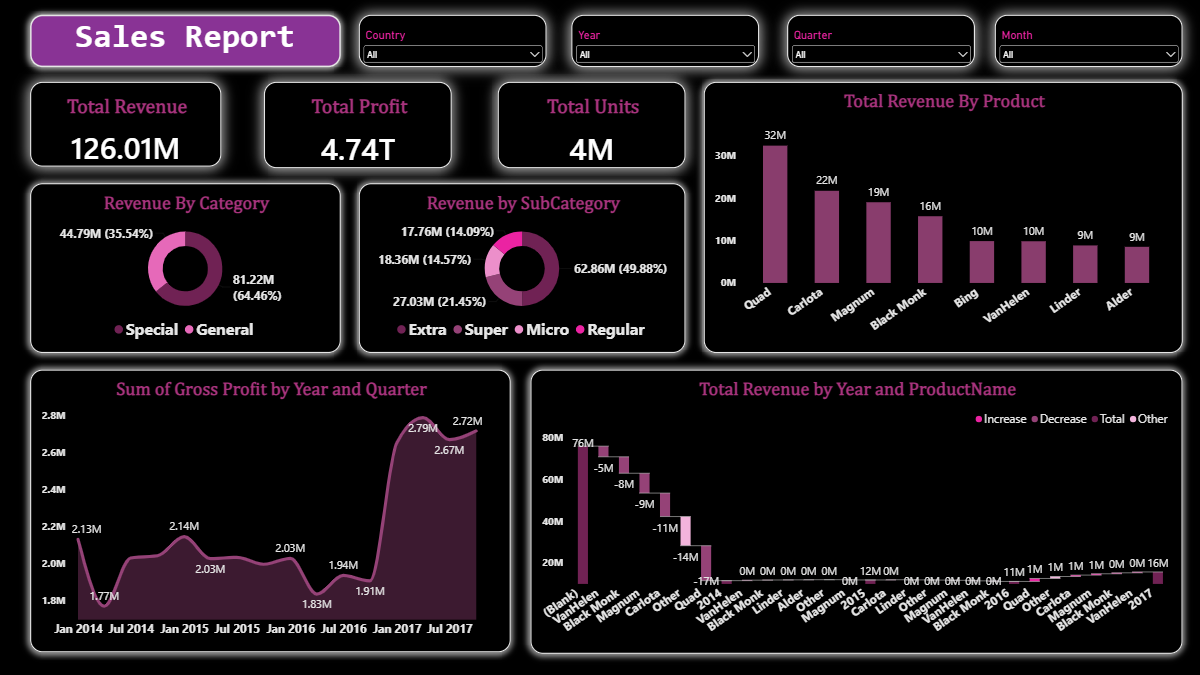

The dashboard page shown, as its layout file describes it:
{"tool":"powerbi","page":{"name":"Page 1","canvas":[1920,1080],"ordinal":0},"visuals":[{"type":"cardVisual","title":"Total Revenue","fields":{"Data":["Sales.Total Revenue"]},"box":[49.6,130.6,305.7,135.9],"z":0},{"type":"cardVisual","title":"Total Profit","fields":{"Data":["Sum(Sales.Total Profit)"]},"box":[423.2,130.6,300.5,138.5],"z":1000},{"type":"cardVisual","title":"Total Units","fields":{"Data":["Sum(Sales.Units)"]},"box":[796.9,130.6,300.5,138.5],"z":2000},{"type":"donutChart","title":"Revenue By Category","fields":{"Category":["Categories.Category"],"Y":["Sum(Sales.Revenue)"]},"box":[49.6,292.6,496.4,271.7],"z":3000},{"type":"donutChart","title":"Revenue by SubCategory","fields":{"Category":["Sub categories.SubCategory Name"],"Y":["Sum(Sales.Revenue)"]},"box":[574.8,292.6,522.5,271.7],"z":4000},{"type":"columnChart","title":"Total Revenue By Product","fields":{"Category":["Product.ProductName"],"Y":["Sales.Total Revenue"]},"box":[1126,130.6,765.5,433.7],"z":5000},{"type":"areaChart","fields":{"Category":["Sales.Date.Variation.Date Hierarchy.Year","Sales.Date.Variation.Date Hierarchy.Quarter"],"Y":["Sum(Sales.Gross Profit)"]},"box":[49.6,590.5,768.1,452],"z":6000},{"type":"waterfallChart","fields":{"Category":["Sales.Date.Variation.Date Hierarchy.Year"],"Breakdown":["Product.ProductName"],"Y":["Sales.Total Revenue"]},"box":[849.1,590.5,1042.4,454.6],"z":7000},{"type":"slicer","fields":{"Values":["Sales.Date.Variation.Date Hierarchy.Month"]},"box":[1591.1,23.5,300.5,83.6],"z":8000},{"type":"slicer","fields":{"Values":["Geography.Country"]},"box":[574.8,23.5,300.5,83.6],"z":9000},{"type":"slicer","fields":{"Values":["Sales.Date.Variation.Date Hierarchy.Year"]},"box":[914.4,23.5,300.5,83.6],"z":10000},{"type":"slicer","fields":{"Values":["Sales.Date.Variation.Date Hierarchy.Quarter"]},"box":[1259.3,23.5,300.5,83.6],"z":11000},{"type":"textbox","box":[49.6,23.5,496.4,83.6],"z":12000}]}

Visuals, with their boxes in screenshot pixels (x1, y1, x2, y2), scaled from the page's 1920x1080 canvas onto the 1200x675 screenshot:
"Total Revenue" cardVisual: 31,82,222,167
"Total Profit" cardVisual: 264,82,452,168
"Total Units" cardVisual: 498,82,686,168
"Revenue By Category" donutChart: 31,183,341,353
"Revenue by SubCategory" donutChart: 359,183,686,353
"Total Revenue By Product" columnChart: 704,82,1182,353
areaChart - Sales.Date.Variation.Date Hierarchy.Year x Sales.Date.Variation.Date Hierarchy.Quarter: 31,369,511,652
waterfallChart - Sales.Date.Variation.Date Hierarchy.Year x Product.ProductName: 531,369,1182,653
slicer - Sales.Date.Variation.Date Hierarchy.Month: 994,15,1182,67
slicer - Geography.Country: 359,15,547,67
slicer - Sales.Date.Variation.Date Hierarchy.Year: 572,15,759,67
slicer - Sales.Date.Variation.Date Hierarchy.Quarter: 787,15,975,67
textbox: 31,15,341,67
